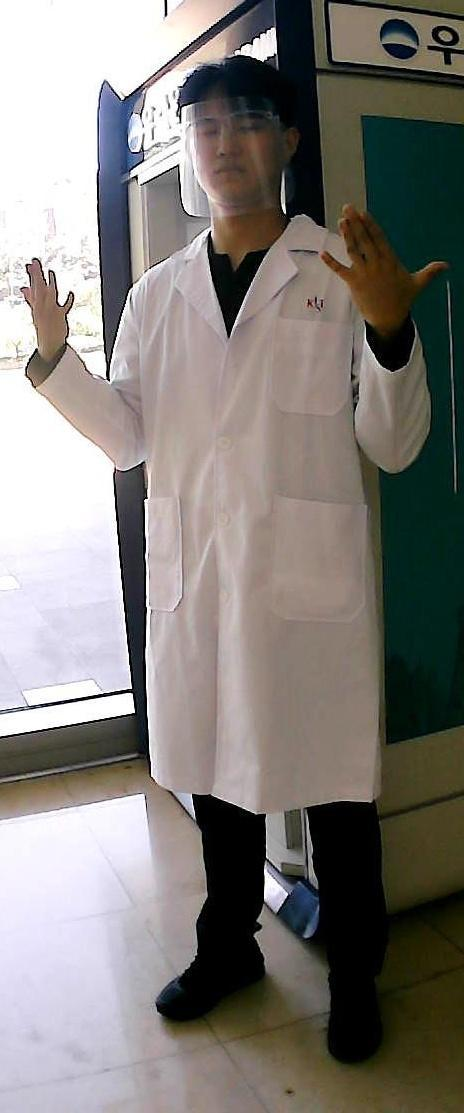lab_coat: (139, 246, 346, 796)
